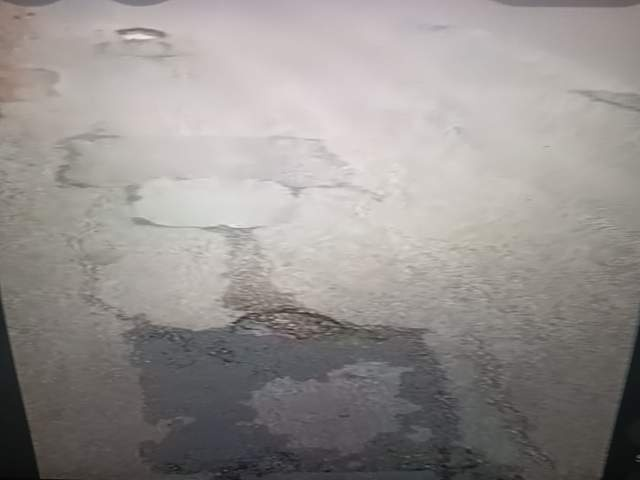pothole: (108, 403, 318, 480), (535, 403, 640, 480)
